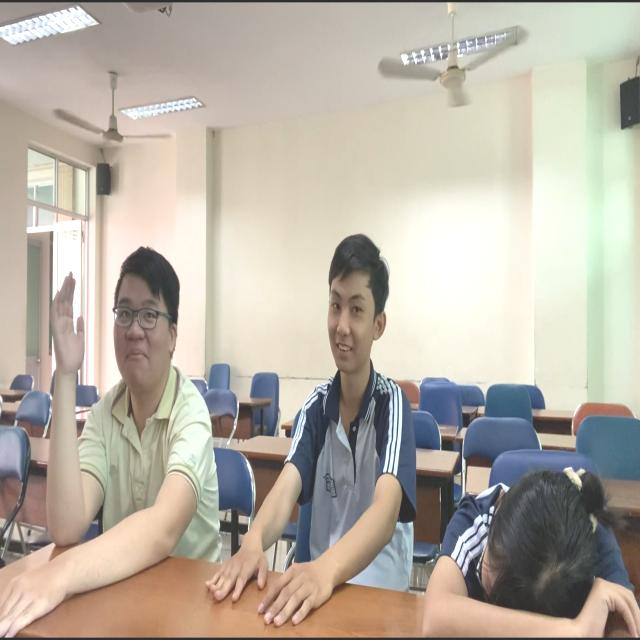raise_hand: (1, 189, 232, 640)
sleep: (415, 445, 640, 640)
